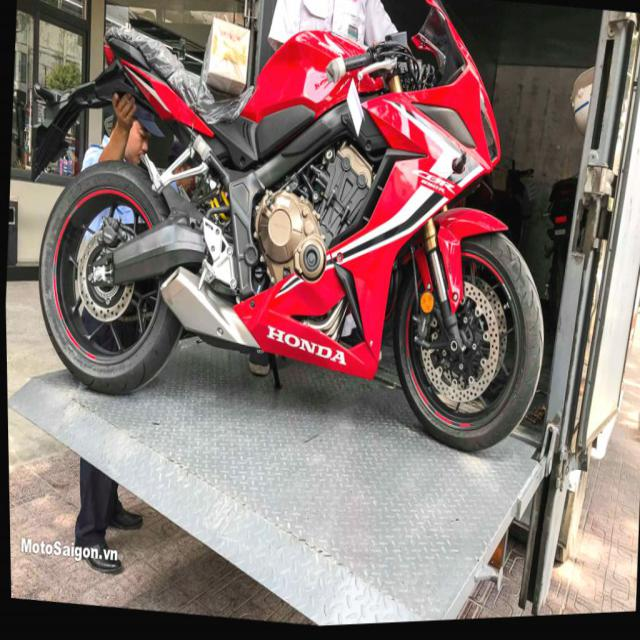CBR650R: (23, 0, 566, 484)
